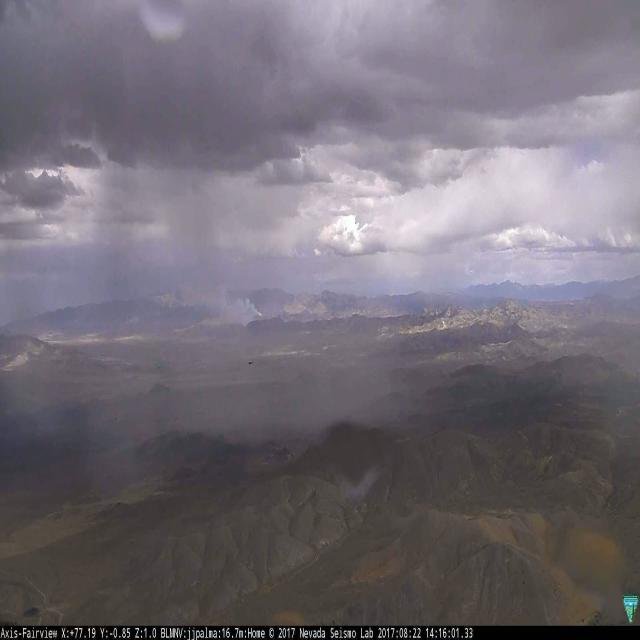smoke: (217, 294, 264, 323)
